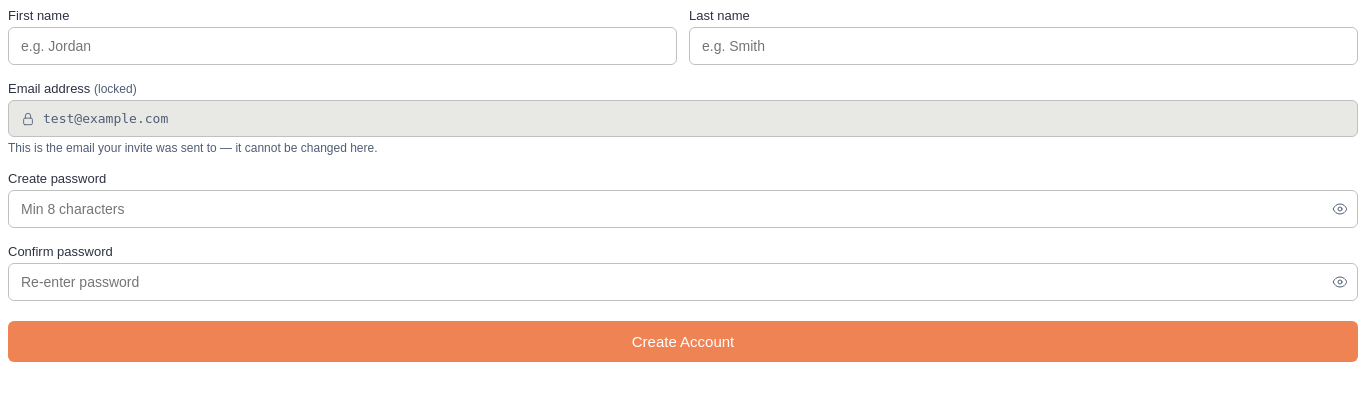
Test case: AccountSetupForm › shows Medium strength for better password
Type "Abcdefg1" into the password field labelled "Create password" at (683, 209), box x1=8 y1=190 x2=1358 y2=228
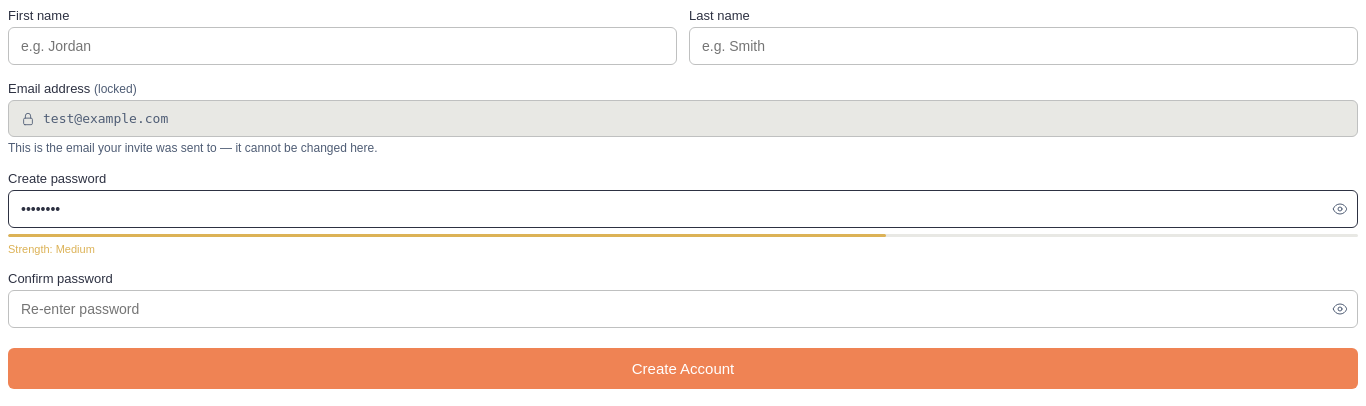
Check: the text "Strength: Medium" is shown, box x1=8 y1=243 x2=95 y2=255
